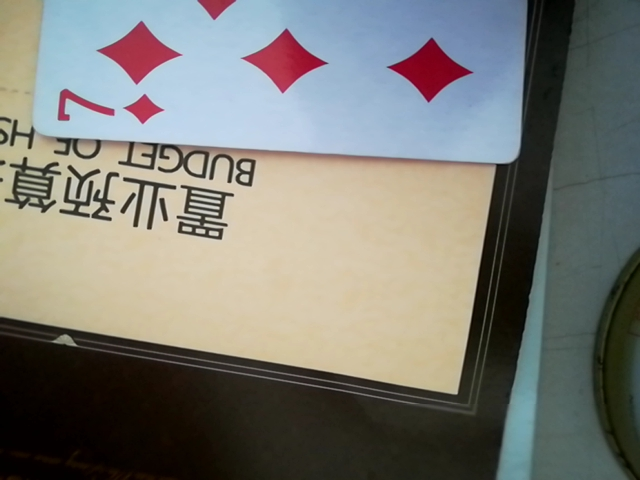fk 7: (28, 0, 527, 168)
